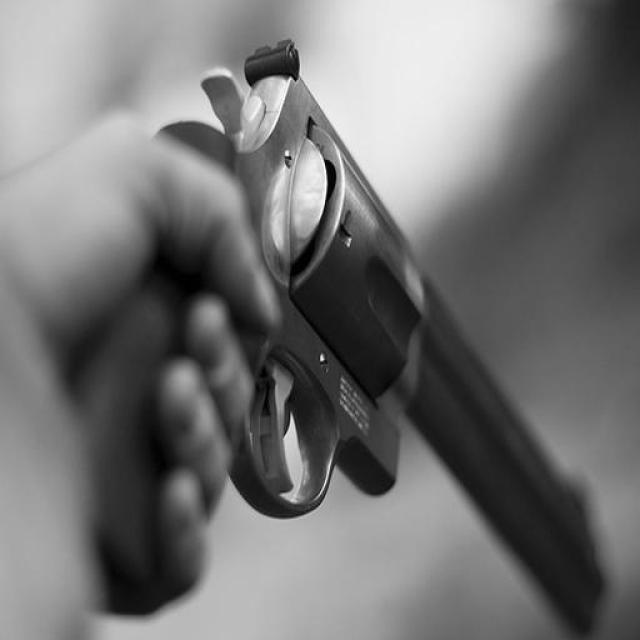pistol: (34, 36, 605, 640)
